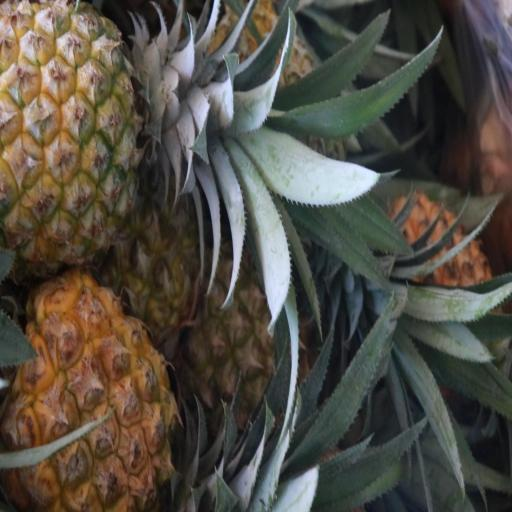Pineapple - v8 v1: (0, 3, 163, 264), (2, 278, 176, 512), (186, 251, 312, 444)
